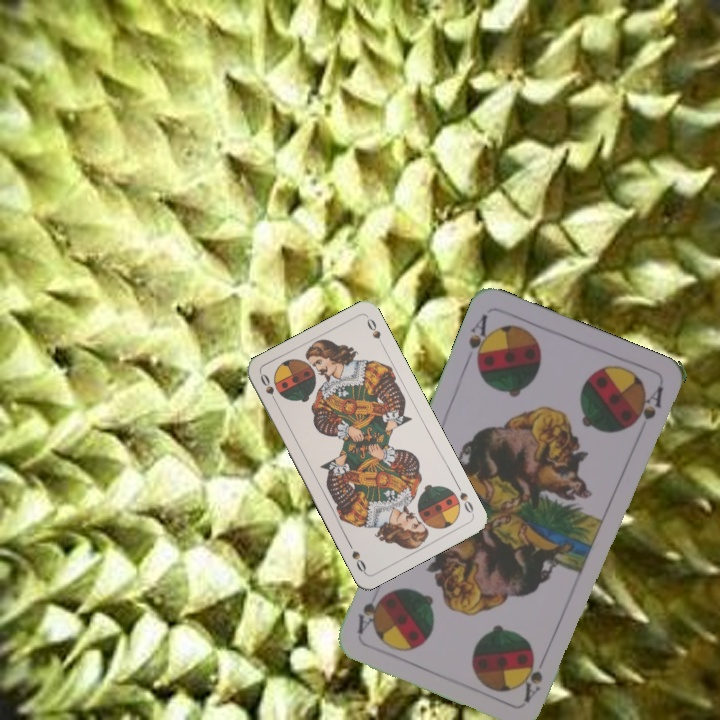SA: (461, 310, 496, 370), (520, 647, 550, 704)
SO: (256, 369, 281, 408), (452, 480, 477, 517)
